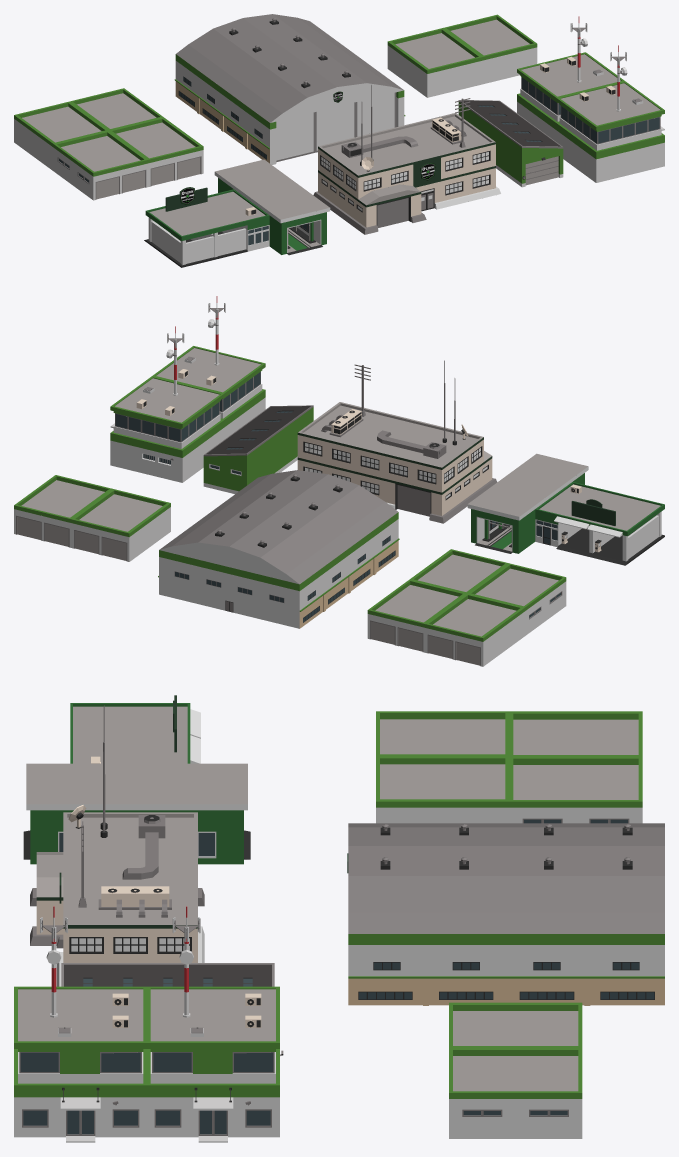
File: company_bldgs.glb
The picture shows the model from 3 angles, top to bottom: view 1: azimuth 30°, elevation 25°; view 2: azimuth 150°, elevation 25°; view 3: azimuth 270°, elevation 25°; orthographic projection. The views are drawn at different scales.
Parts seen in each view (by area): view 1: airport-hangar, military-headquarters, building-carwash, building-policestation.006, industry-storage, building-policestation-garage.001, building-policestation-garage.002, building-policestation.005, building-policestation-garage.006, building-policestation-garage.005, building-policestation-garage.003, building-policestation-garage.007; view 2: airport-hangar, military-headquarters, building-carwash, building-policestation.005, industry-storage, building-policestation-garage.003, building-policestation-garage.001, building-policestation.006, building-policestation-garage.007, building-policestation-garage.005, building-policestation-garage.002, building-policestation-garage.006; view 3: airport-hangar, military-headquarters, building-carwash, building-policestation.005, building-policestation.006, building-policestation-garage.005, building-policestation-garage.007, building-policestation-garage.006, building-policestation-garage.002, building-policestation-garage.003, building-policestation-garage.001, industry-storage.
Part boxes in pixels (x1=…): airport-hangar: x1=174, y1=14, x2=405, y2=164; military-headquarters: x1=313, y1=85, x2=500, y2=234; building-carwash: x1=144, y1=159, x2=330, y2=267; building-policestation.006: x1=556, y1=45, x2=664, y2=182; industry-storage: x1=458, y1=100, x2=563, y2=187; building-policestation-garage.001: x1=387, y1=28, x2=482, y2=97; building-policestation-garage.002: x1=53, y1=130, x2=148, y2=200; building-policestation.005: x1=517, y1=16, x2=624, y2=141; building-policestation-garage.006: x1=109, y1=117, x2=203, y2=186; building-policestation-garage.005: x1=443, y1=14, x2=537, y2=84; building-policestation-garage.003: x1=14, y1=101, x2=108, y2=170; building-policestation-garage.007: x1=69, y1=88, x2=163, y2=130; airport-hangar: x1=158, y1=470, x2=399, y2=628; military-headquarters: x1=297, y1=360, x2=497, y2=523; building-carwash: x1=467, y1=453, x2=664, y2=565; building-policestation.005: x1=110, y1=326, x2=223, y2=482; industry-storage: x1=203, y1=405, x2=313, y2=493; building-policestation-garage.003: x1=425, y1=593, x2=524, y2=666; building-policestation-garage.001: x1=71, y1=489, x2=170, y2=561; building-policestation.006: x1=152, y1=296, x2=265, y2=439; building-policestation-garage.007: x1=367, y1=579, x2=466, y2=652; building-policestation-garage.005: x1=14, y1=475, x2=112, y2=547; building-policestation-garage.002: x1=467, y1=563, x2=566, y2=635; building-policestation-garage.006: x1=410, y1=549, x2=508, y2=593; airport-hangar: x1=348, y1=823, x2=664, y2=1005; military-headquarters: x1=30, y1=705, x2=204, y2=986; building-carwash: x1=23, y1=695, x2=250, y2=864; building-policestation.005: x1=146, y1=906, x2=283, y2=1142; building-policestation.006: x1=14, y1=906, x2=147, y2=1142; building-policestation-garage.005: x1=449, y1=1047, x2=582, y2=1138; building-policestation-garage.007: x1=509, y1=756, x2=642, y2=823; building-policestation-garage.006: x1=376, y1=756, x2=509, y2=823; building-policestation-garage.002: x1=376, y1=711, x2=509, y2=756; building-policestation-garage.003: x1=509, y1=711, x2=642, y2=756; building-policestation-garage.001: x1=449, y1=1002, x2=582, y2=1047; industry-storage: x1=61, y1=963, x2=274, y2=986.
Bounding box in the file's own units: 69.81 × 17.68 × 48.8.
21 materials, 1 textured.
